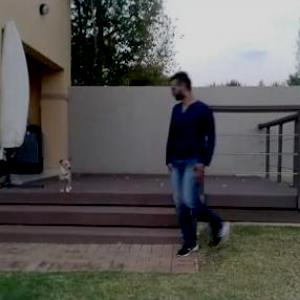follow: (167, 71, 218, 236)
